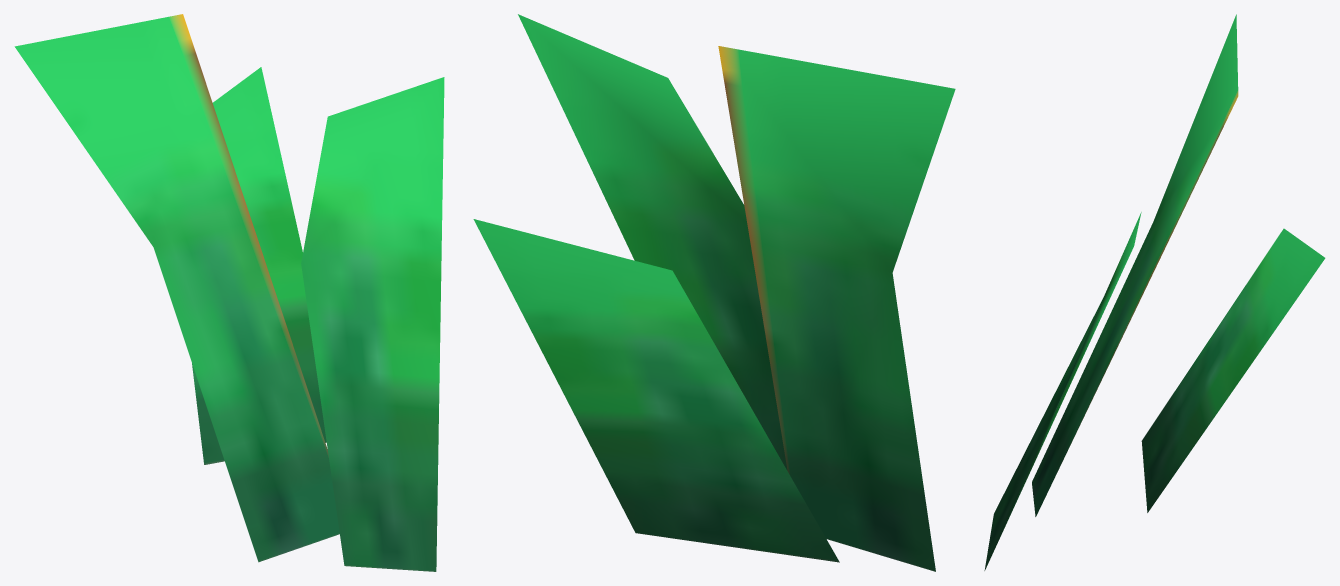
The model's file is fg_grassD.dae.
3 renders of one model, left to right at view 1: azimuth 30°, elevation 25°; view 2: azimuth 150°, elevation 25°; view 3: azimuth 270°, elevation 25°, orthographic. The views are drawn at different scales.
Visible parts, largest first — view 1: fg_grassD; view 2: fg_grassD; view 3: fg_grassD.
Boxes of the visible parts, x1,y1,x2,y2 form: fg_grassD: (14,14,444,571); fg_grassD: (473,14,955,571); fg_grassD: (984,14,1325,570).
Size of the model in its own units: 14.73 by 18.52 by 13.13.
Materials: 1 (1 with a texture image).
